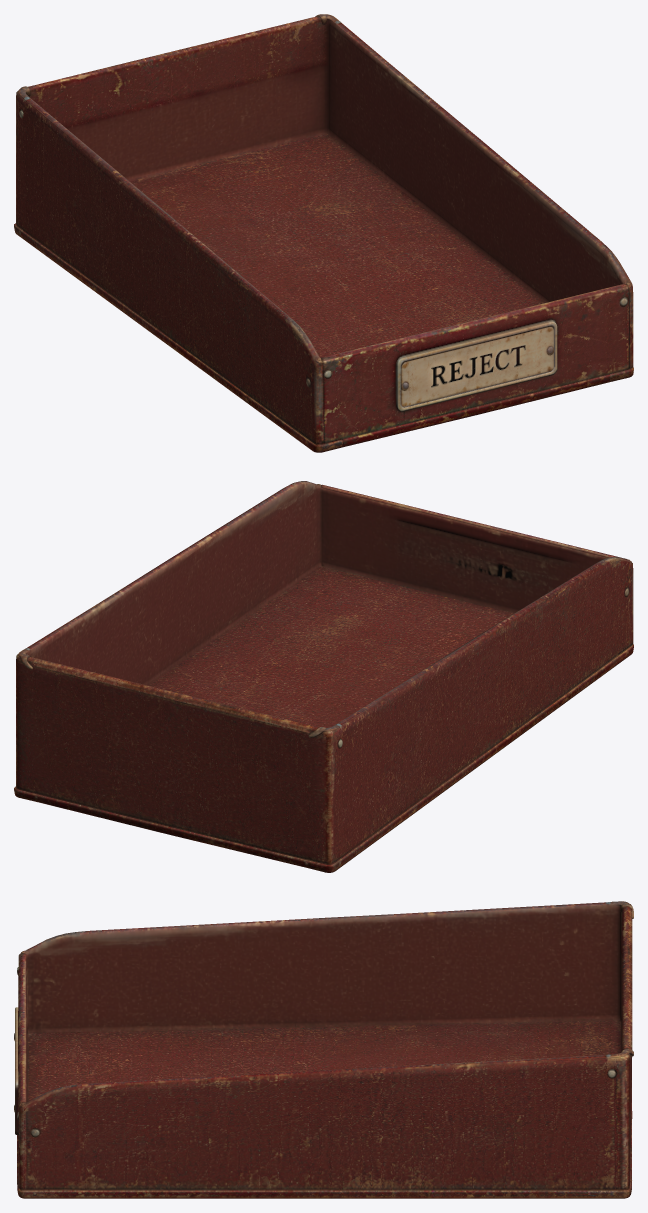
File: reject.fbx
The picture shows the model from 3 angles, top to bottom: view 1: azimuth 30°, elevation 25°; view 2: azimuth 150°, elevation 25°; view 3: azimuth 270°, elevation 25°; orthographic projection.
Parts seen in each view (by area): view 1: f8f432f2_7647_41dd_83d4_b29d6f09760e; view 2: f8f432f2_7647_41dd_83d4_b29d6f09760e; view 3: f8f432f2_7647_41dd_83d4_b29d6f09760e.
Boxes of the visible parts, box(x1,y1,x2,y2) form: f8f432f2_7647_41dd_83d4_b29d6f09760e: box(14, 14, 633, 452); f8f432f2_7647_41dd_83d4_b29d6f09760e: box(14, 481, 633, 872); f8f432f2_7647_41dd_83d4_b29d6f09760e: box(14, 901, 633, 1198).
Size of the model in its own units: 0.6011 by 0.2554 by 0.9995.
Materials: 1 (1 with a texture image).
